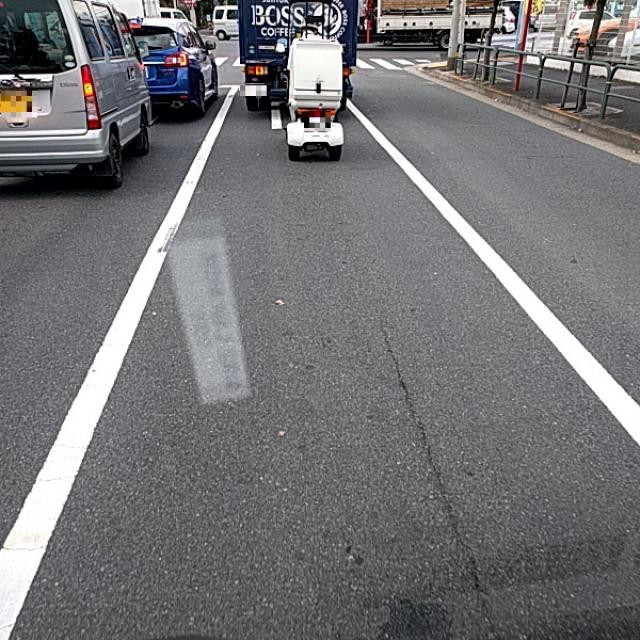pothole: (384, 364, 455, 470)
